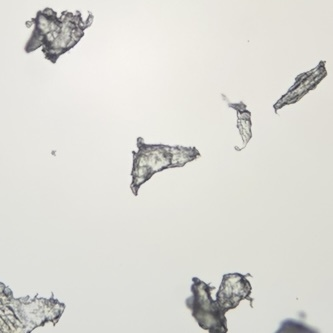microplastic: (130, 137, 201, 196), (185, 273, 254, 333), (25, 8, 93, 63), (1, 282, 67, 333), (273, 61, 327, 115), (220, 94, 252, 150), (274, 312, 322, 333)
